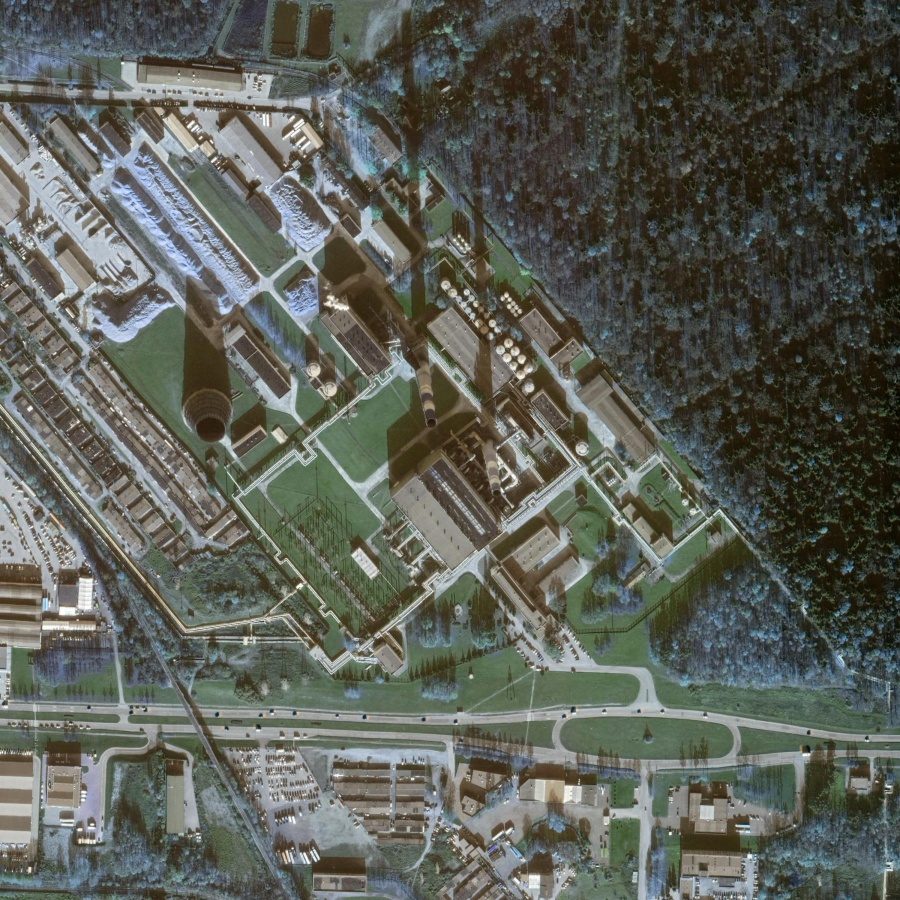PowerPlant: (157, 166, 693, 613)
